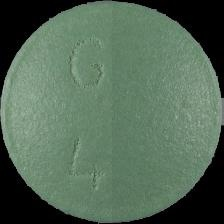64725-1487: (0, 0, 224, 224)
